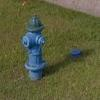a fire hydrant: (23, 14, 48, 72)
